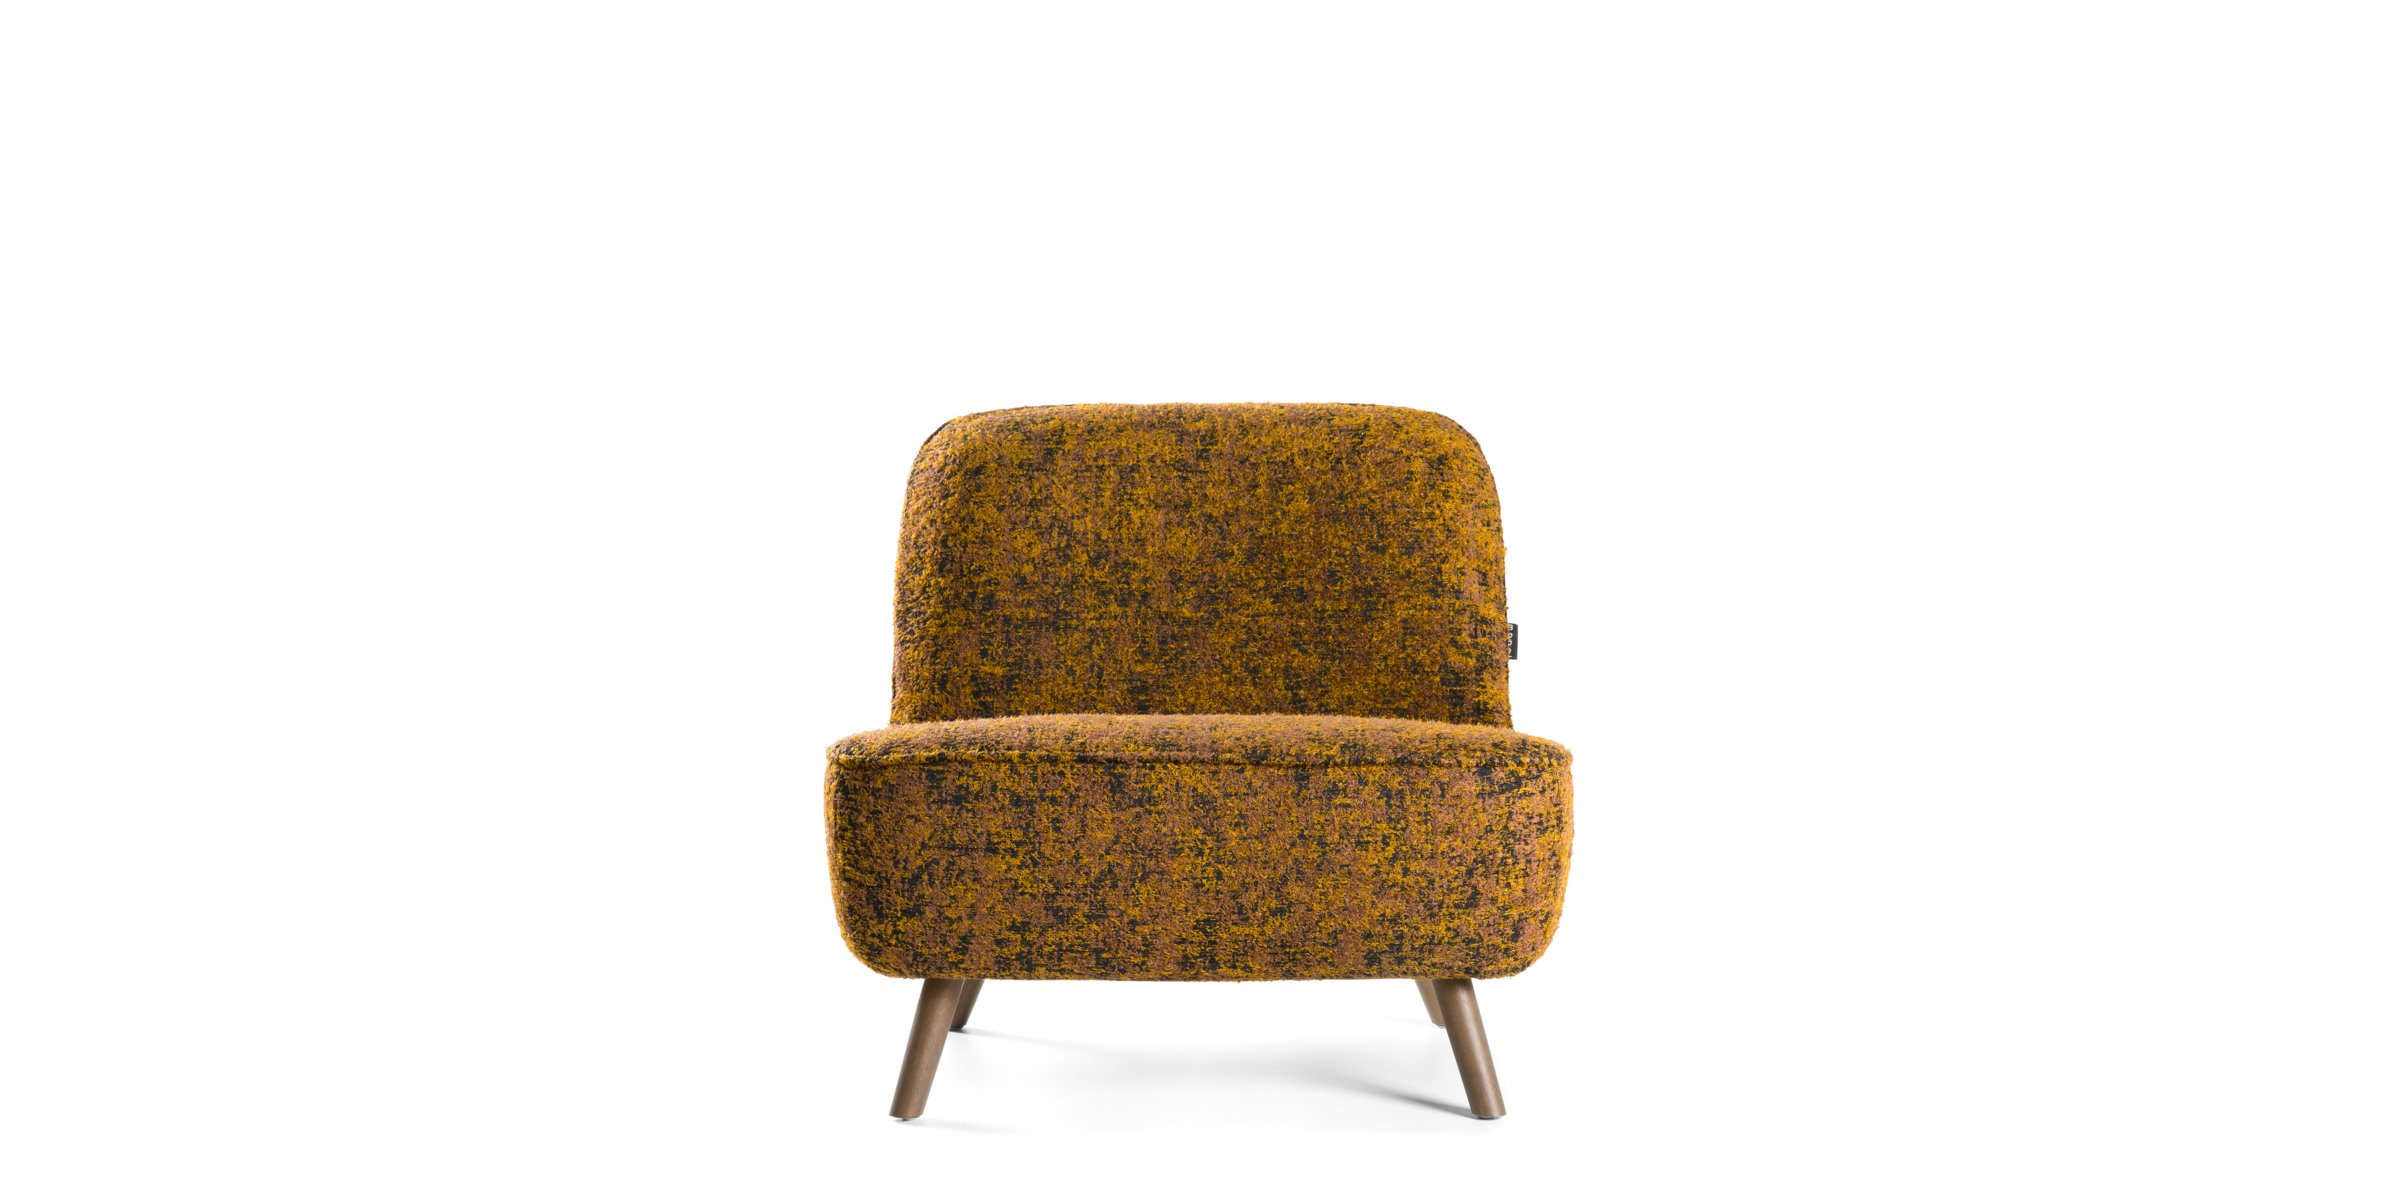kursi: (827, 399, 1580, 1113)
